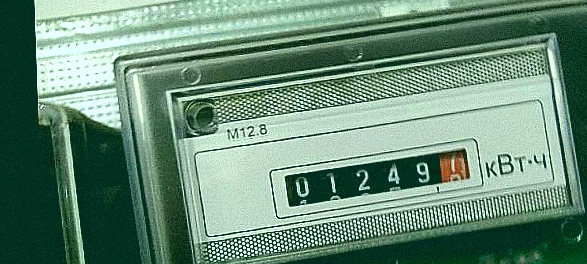0: (290, 170, 310, 197)
1: (322, 168, 338, 194)
2: (352, 165, 373, 192)
4: (384, 158, 403, 186)
7: (444, 148, 459, 173)
9: (413, 157, 432, 183)
screen: (261, 139, 497, 222)
